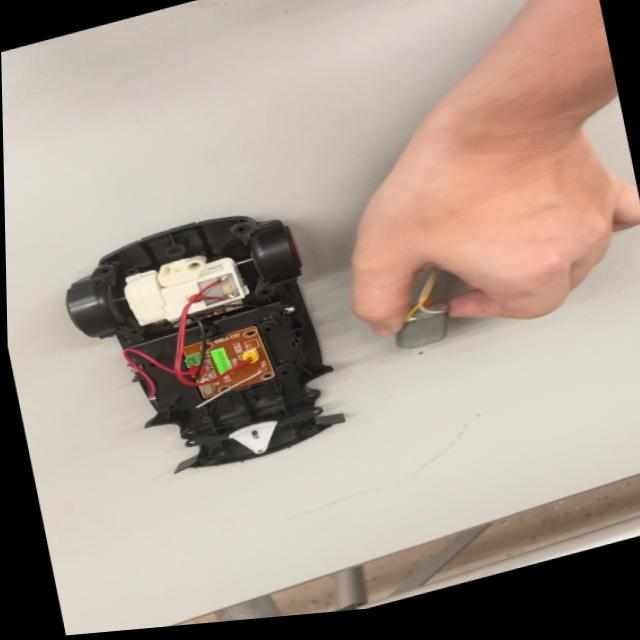Chassis: (50, 186, 353, 520)
motor: (379, 284, 469, 366)
